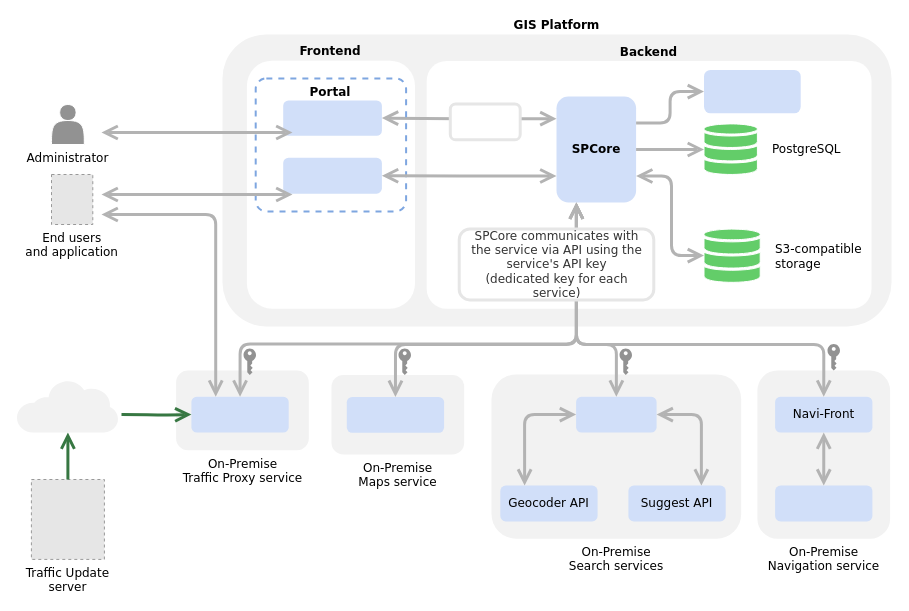
Image size: 909x611. Some labels were removed from this diagram. Grey dashed boxes stand in for pictures. Here are the shapes that lost their labels. From the top down, the centre of each, then its label:
At point 752,91: "ZooKeeper message queue".
At point 332,117: "Web UI (Admin)".
At point 484,121: "REST API".
At point 332,175: "Web UI (GIS Tools)".
At point 67,406: "Internet".
At point 239,414: "NGINX reverse proxy".
At point 395,414: "Tiles API".
At point 616,414: "Catalog APIs".
At point 823,503: "Isochrone API".
